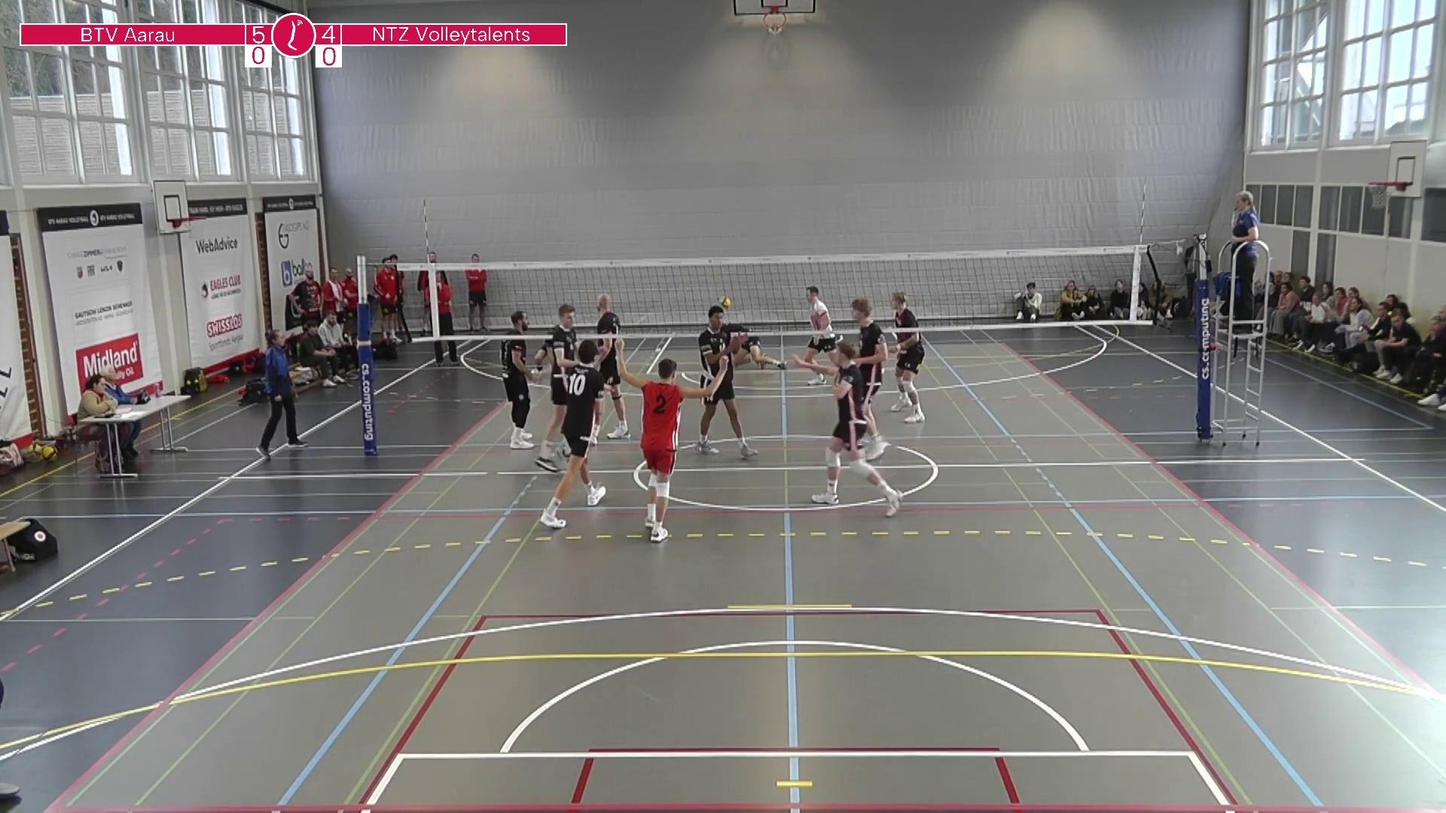Player: (616, 336, 729, 543), (810, 335, 901, 516), (538, 339, 624, 530), (691, 306, 776, 458), (534, 305, 579, 471), (848, 298, 892, 455), (593, 293, 633, 439), (709, 302, 787, 373), (889, 292, 926, 423), (502, 310, 537, 448), (802, 286, 837, 382)
ball: (718, 292, 735, 310)
